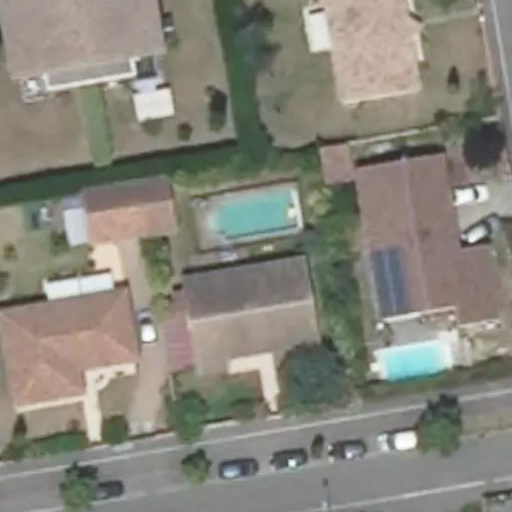pool: (202, 231, 305, 255)
